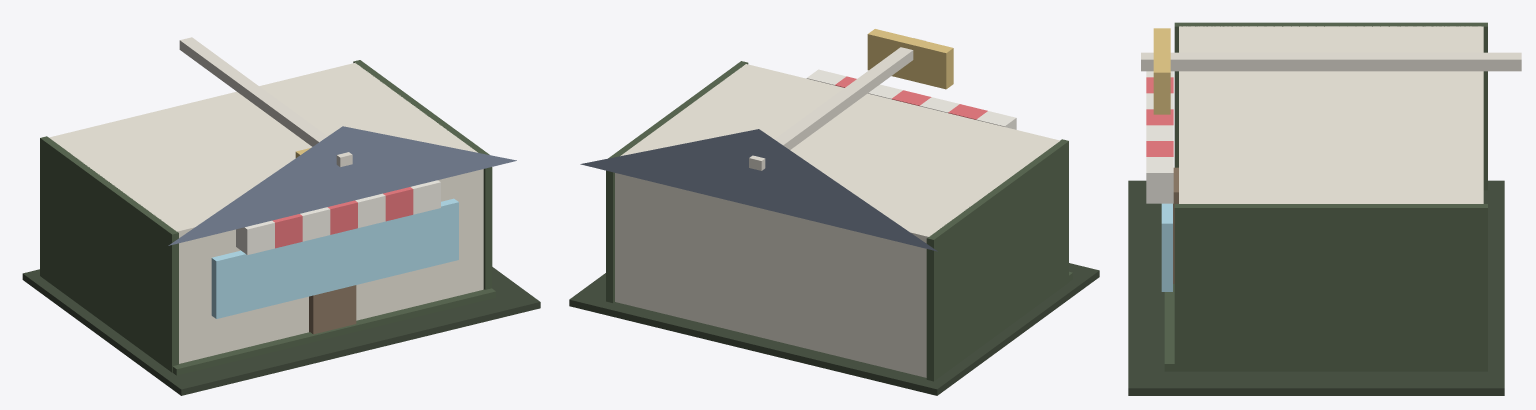
The model's file is building-shop.glb.
The picture shows the model from 3 angles, left to right: view 1: azimuth 30°, elevation 25°; view 2: azimuth 150°, elevation 25°; view 3: azimuth 270°, elevation 25°; orthographic projection. The views are drawn at different scales.
Parts seen in each view (by area): view 1: shop; view 2: shop; view 3: shop.
Boxes of the visible parts, x1,y1,x2,y2 form: shop: [22, 37, 540, 395]; shop: [569, 29, 1099, 395]; shop: [1128, 22, 1521, 395].
Size of the model in its own units: 2.37 by 1.38 by 1.87.
